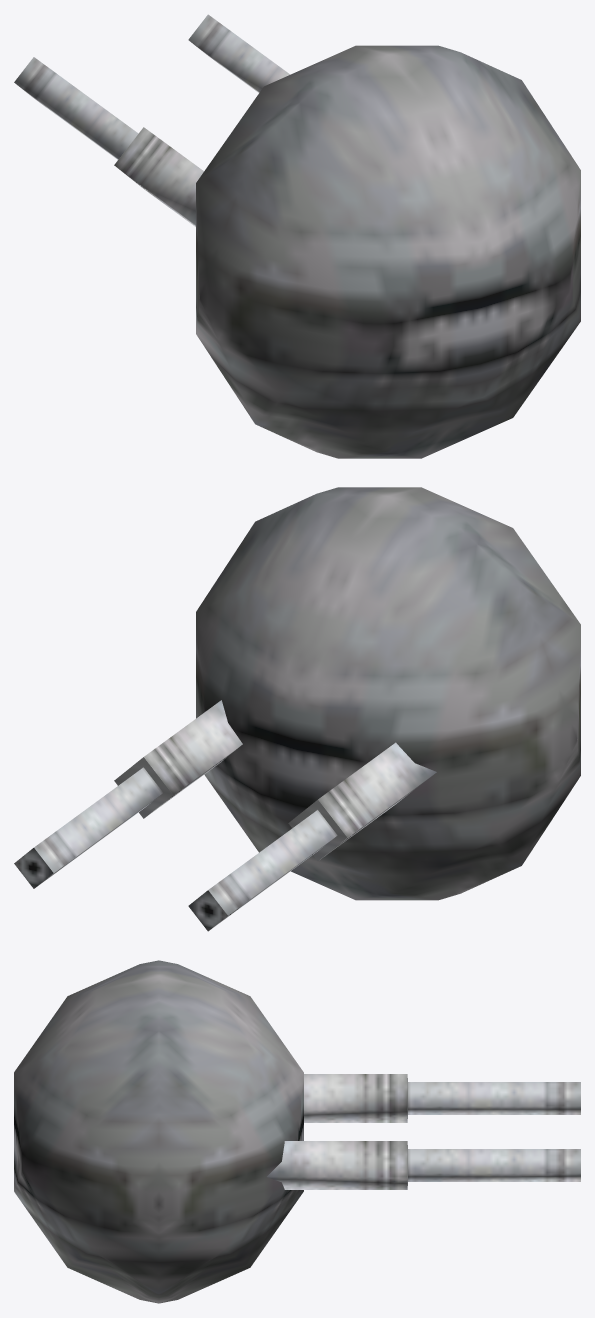
The model's file is lambda_turret_l1.fbx.
3 renders of one model, top to bottom at view 1: azimuth 30°, elevation 25°; view 2: azimuth 150°, elevation 25°; view 3: azimuth 270°, elevation 25°, orthographic. The views are drawn at different scales.
Parts seen in each view (by area): view 1: mesh_node; view 2: mesh_node; view 3: mesh_node.
Part boxes in pixels (box(x1,y1,x2,y2)): mesh_node: box(14, 14, 580, 458); mesh_node: box(14, 487, 580, 931); mesh_node: box(14, 960, 580, 1303).
Size of the model in its own units: 1.5 by 1.5 by 2.47.
